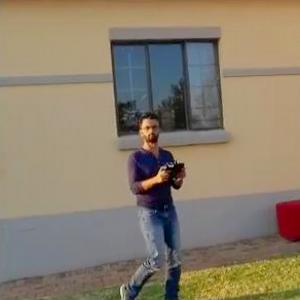follow: (119, 108, 194, 299)
